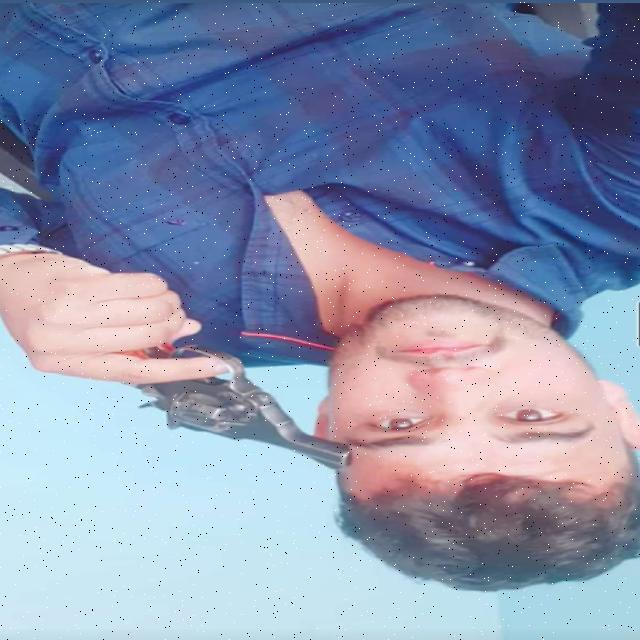gun: (86, 339, 360, 477)
